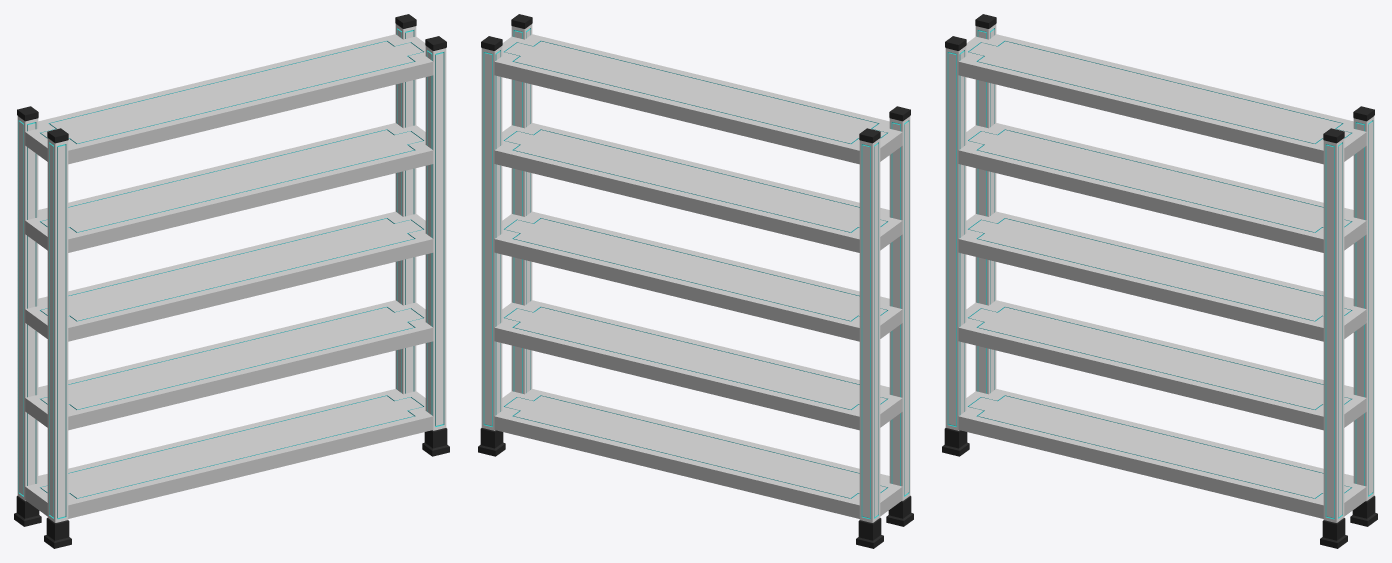
The model's file is shelf.fbx.
3 views of the same model, side by side, from view 1: azimuth 30°, elevation 25°; view 2: azimuth 150°, elevation 25°; view 3: azimuth 330°, elevation 25° (orthographic).
Visible parts, largest first — view 1: Cube, Cube.001; view 2: Cube, Cube.001; view 3: Cube, Cube.001.
Boxes of the visible parts, <box> form: Cube: <box>25,34,433,518</box>; Cube.001: <box>14,14,449,548</box>; Cube: <box>494,34,902,518</box>; Cube.001: <box>478,14,913,548</box>; Cube: <box>958,34,1366,518</box>; Cube.001: <box>942,14,1377,548</box>.
Size of the model in its own units: 607 by 602 by 107.
